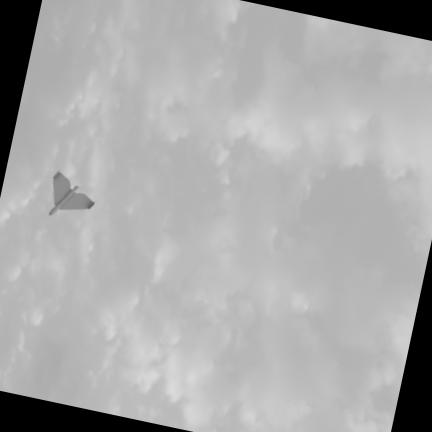Shahed: (49, 172, 93, 215)
